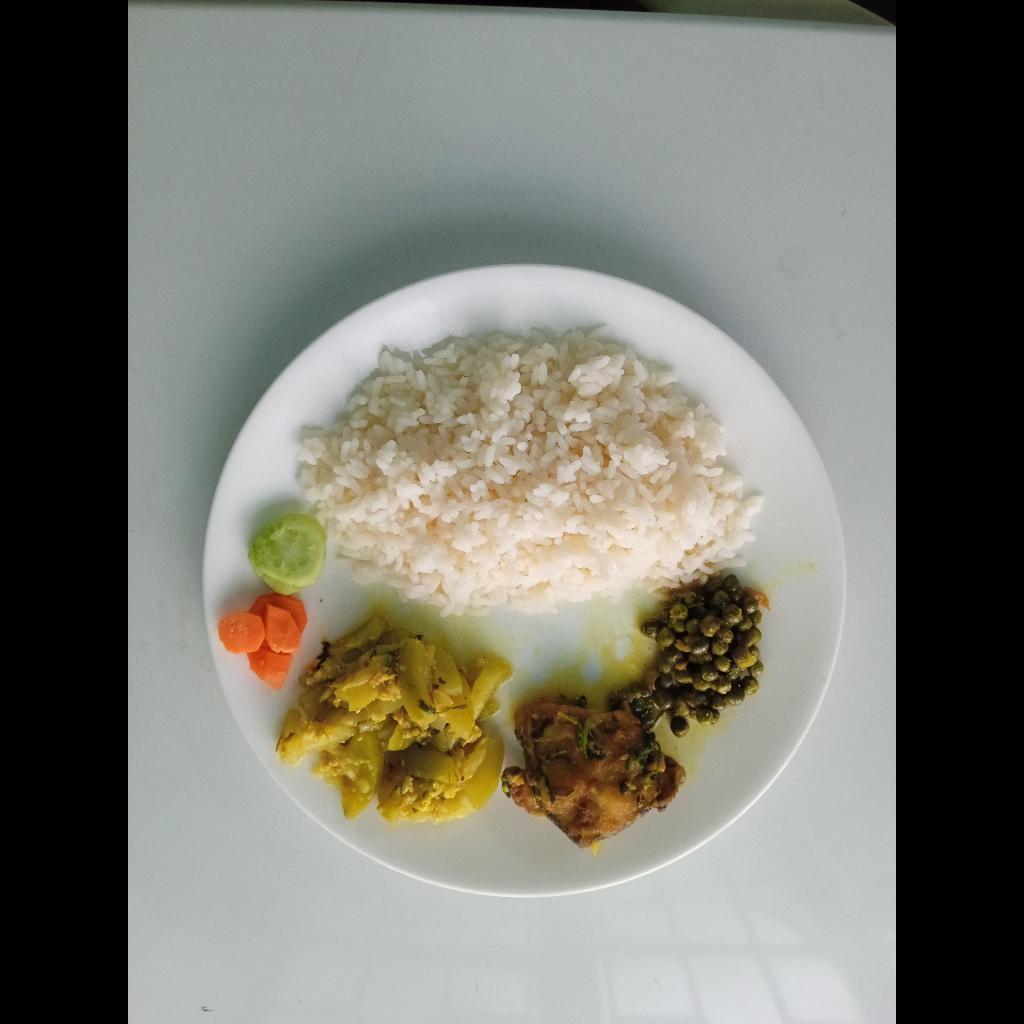carrot: (220, 602, 307, 682)
cucumber: (255, 513, 321, 578)
fish: (506, 704, 682, 841)
green-pea: (638, 580, 764, 724)
lau: (281, 629, 500, 820)
rice: (295, 324, 767, 607)
